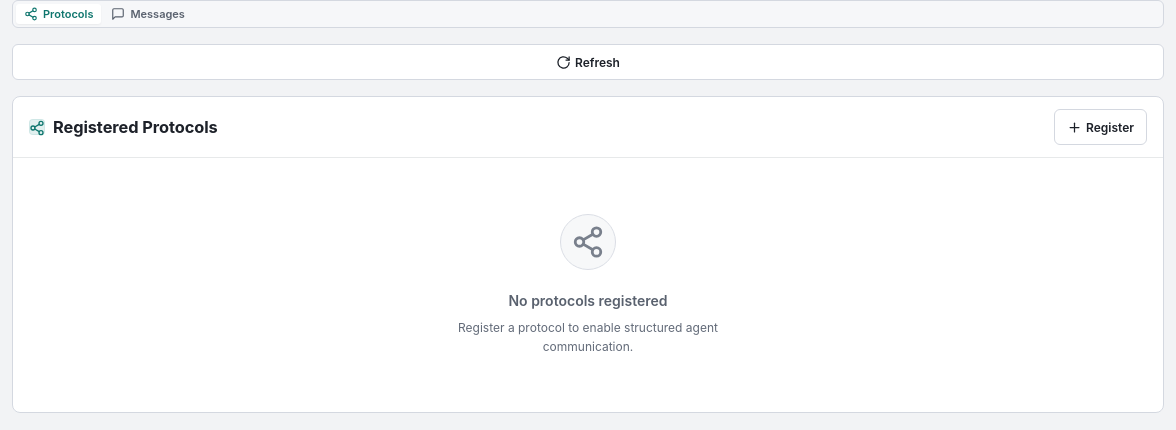
Test case: Protocols.vue › switches to messages tab and shows empty state
What coordinates should you click on to do the following:
click the radio button with class "segmented__item" showing "Messages"
I would click on:
 (148, 14)
Its box is [103,4,193,24].
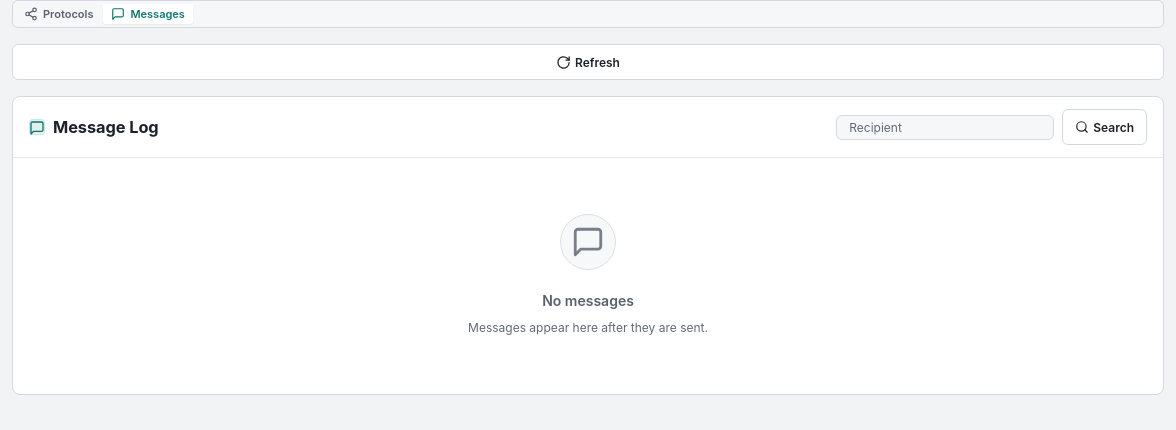
Now the text "No messages" is shown, box [542,290,634,311]
